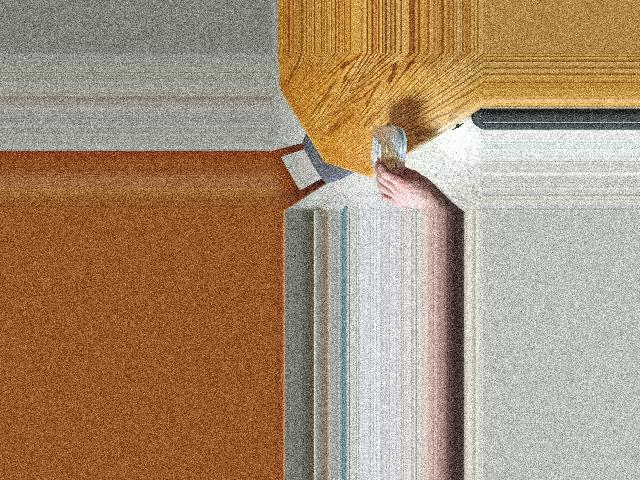cheese: (361, 119, 420, 185)
